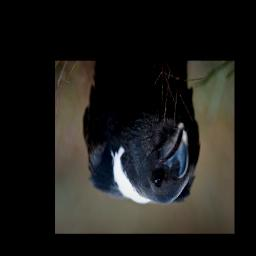Crow: (84, 65, 201, 206)
